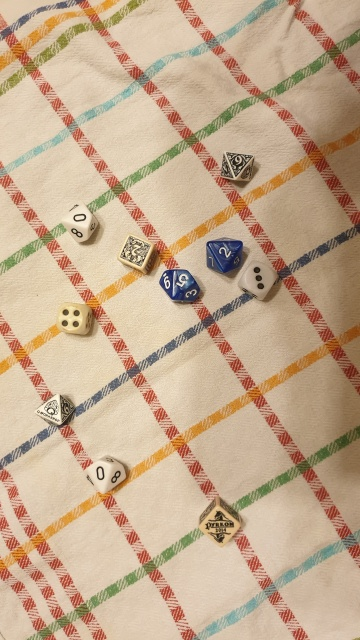d10-10: (79, 450, 134, 502), (56, 196, 106, 250)
d10-2: (200, 231, 240, 277)
d10-5: (157, 263, 205, 310)
d6-3: (234, 258, 280, 303)
d6-4: (53, 299, 97, 339)
d6p-1: (191, 488, 246, 554)
d6p-2: (117, 233, 155, 275)
d8p-6: (214, 143, 260, 191)
d8p-8: (31, 387, 77, 434)
